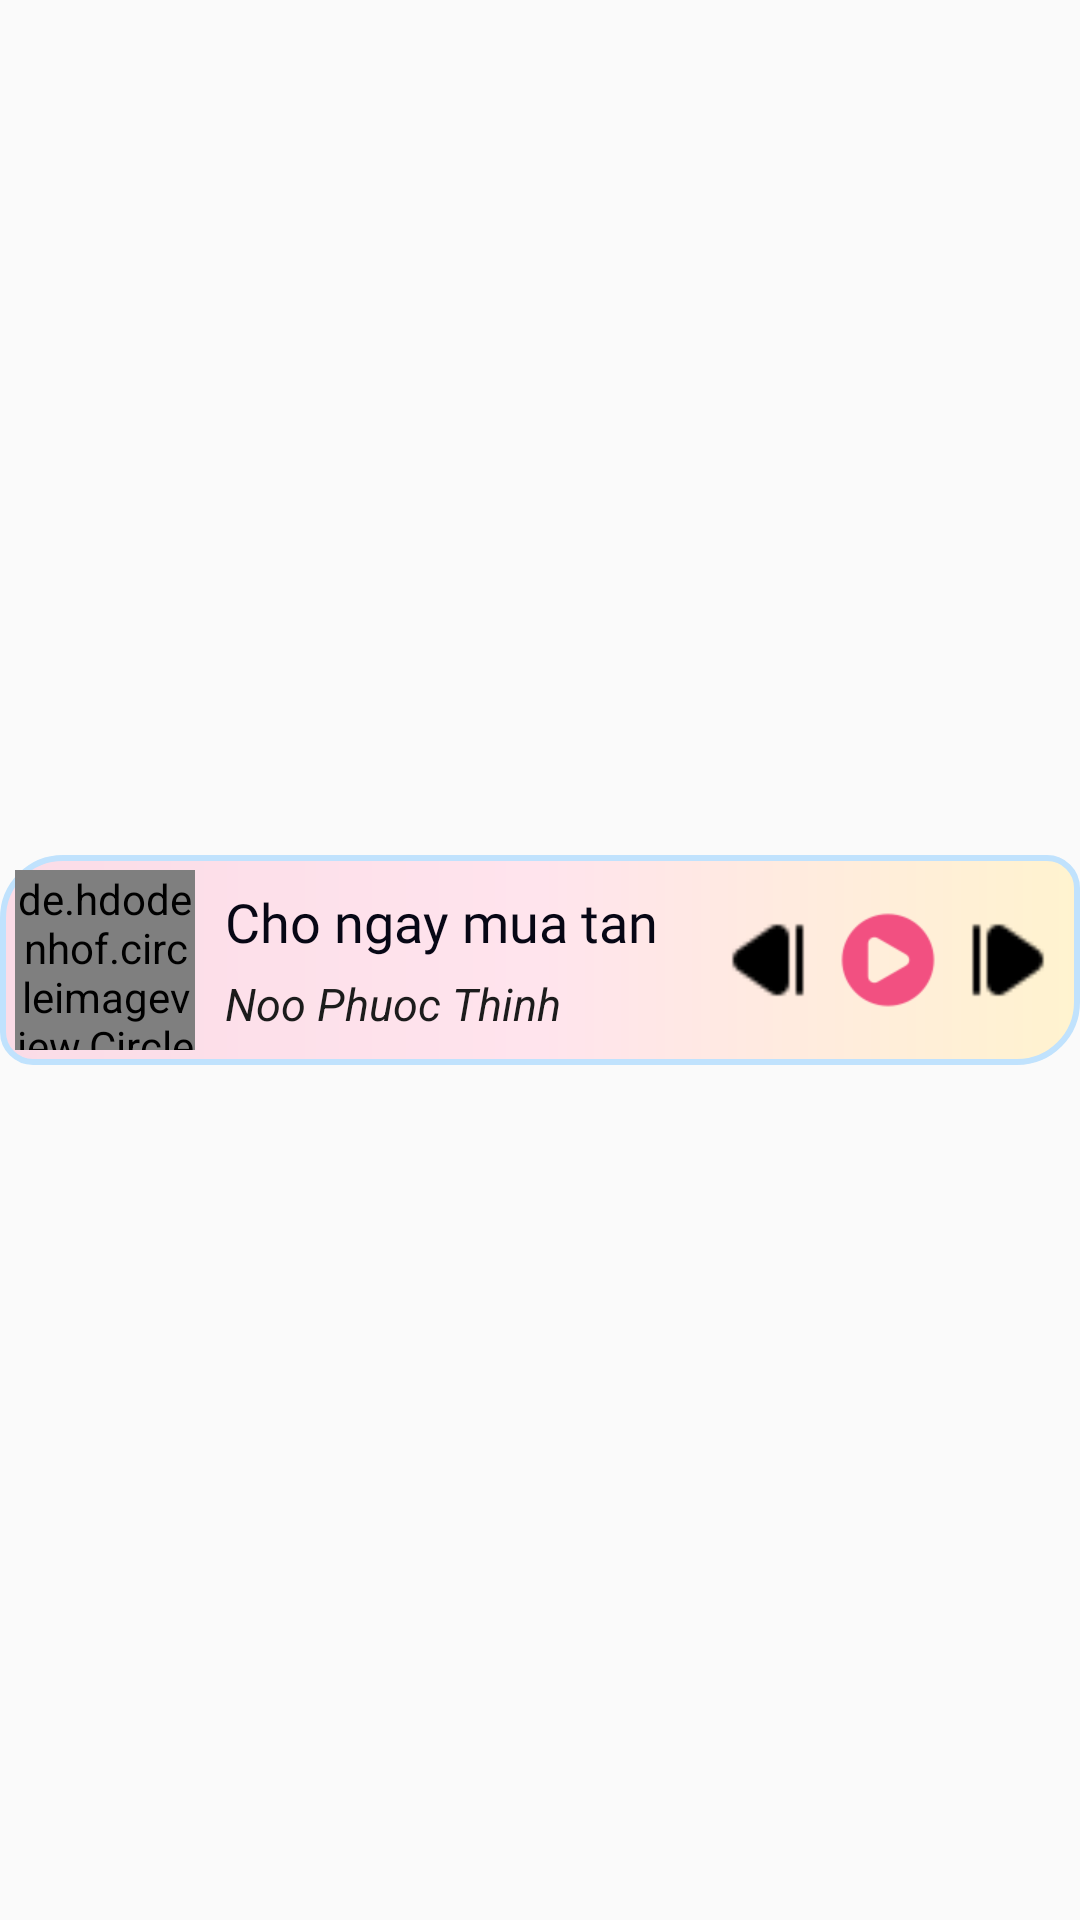

Screen size 1080x1920. Icon name, then its box in pixels as (x1, y1, x2, y2):
next: (972, 924, 1044, 996)
play: (841, 913, 935, 1007)
previous: (732, 924, 804, 996)
